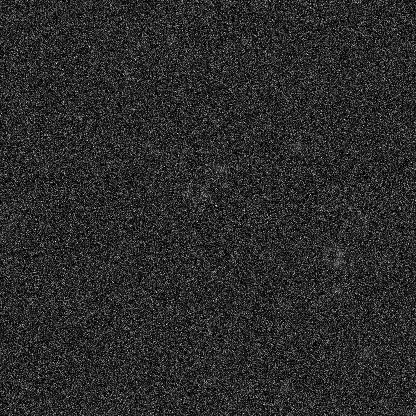Ring: (183, 180, 207, 204), (321, 243, 345, 267), (347, 210, 371, 234), (332, 248, 356, 272), (3, 213, 27, 237), (166, 142, 190, 166)
Spot: (143, 142, 159, 158), (118, 86, 134, 102), (376, 252, 392, 268), (134, 37, 150, 53), (329, 281, 345, 297), (236, 32, 252, 48), (211, 159, 227, 175), (360, 345, 376, 361), (287, 138, 303, 154), (189, 200, 205, 216), (161, 33, 177, 49), (278, 379, 294, 395), (275, 299, 291, 315), (38, 158, 54, 174), (203, 370, 219, 386)
